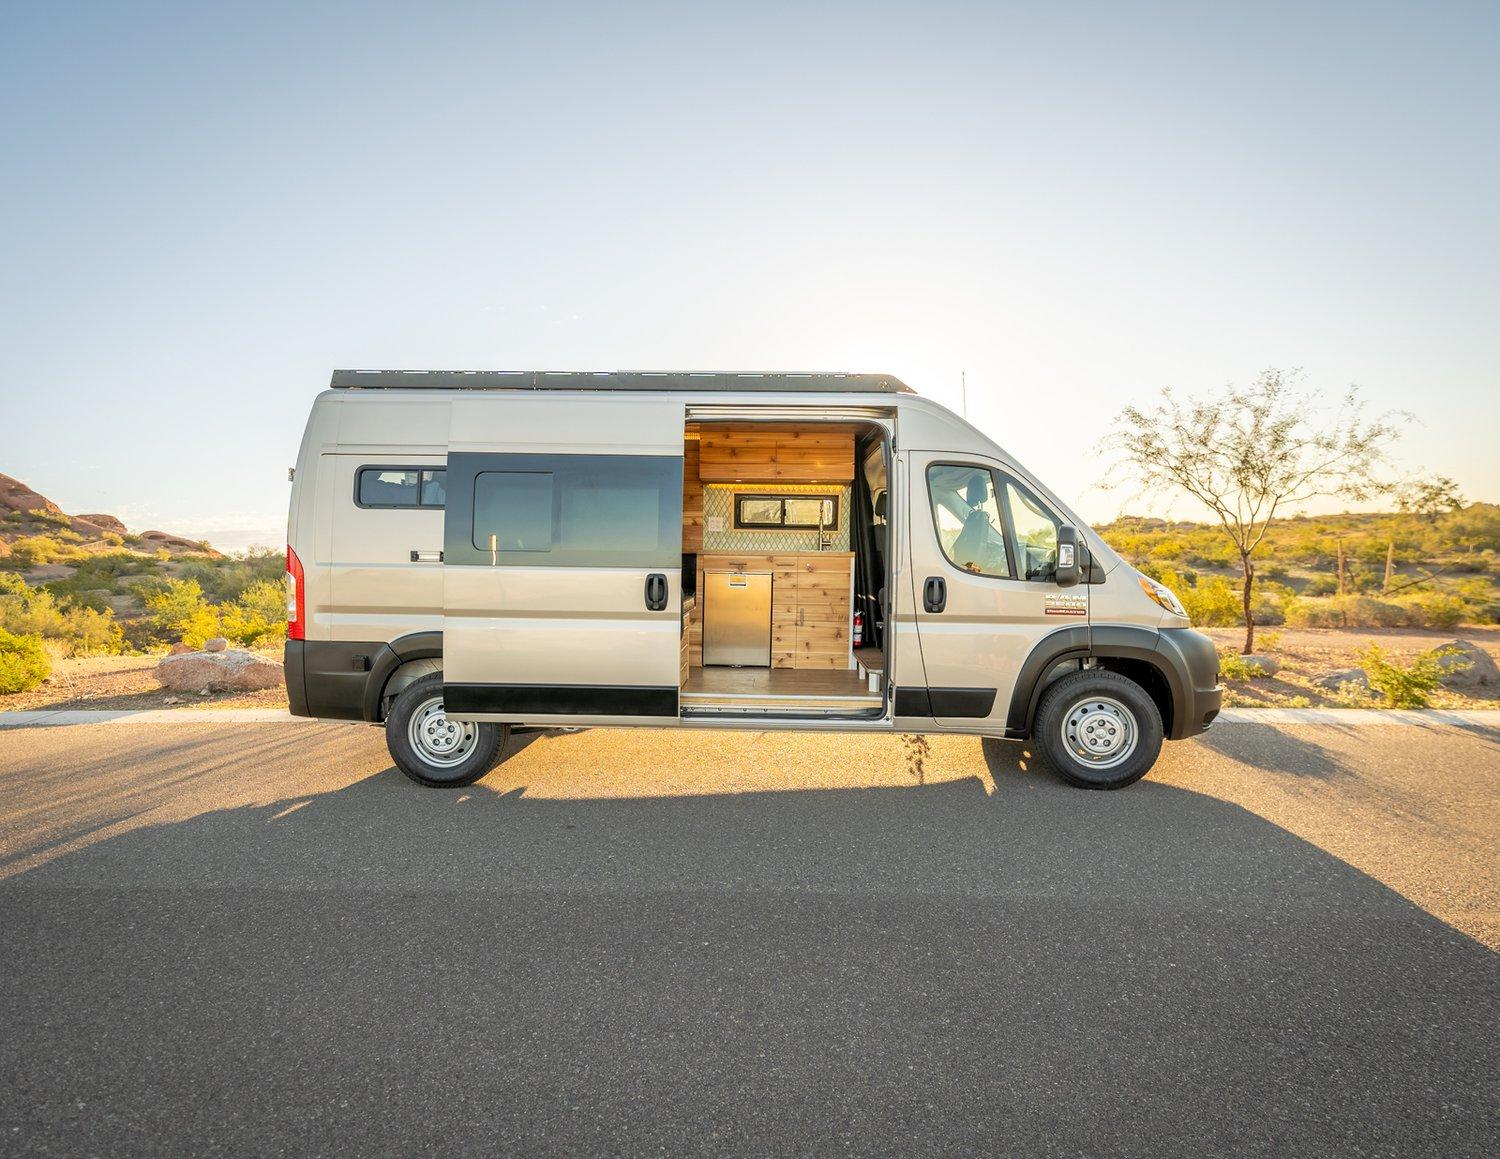van: (282, 368, 1222, 793)
